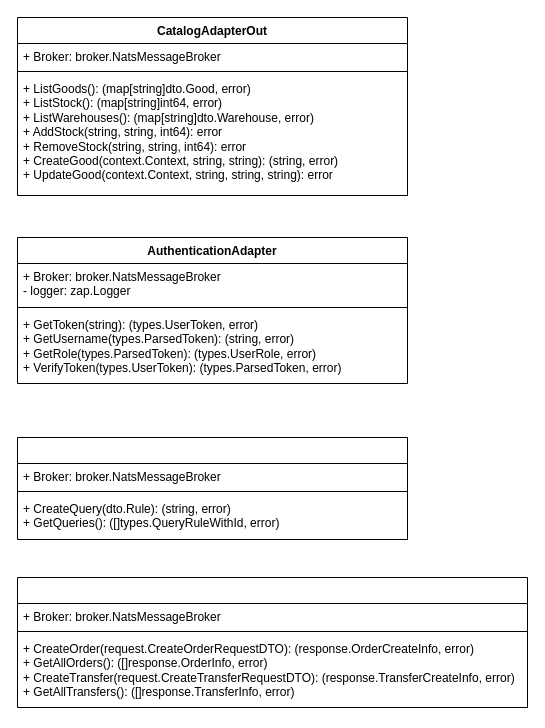
The diagram is 545 pixels wide and 728 high, and some of its shapes have lost their labels. The shapes that lost their labels are listed below. From the top down, each one's box as (x1, y1, x2, y2) in pixels, then its label:
(16, 436, 408, 540): NotificationsAdapterOut
(16, 576, 528, 708): OrderAdapterOut
